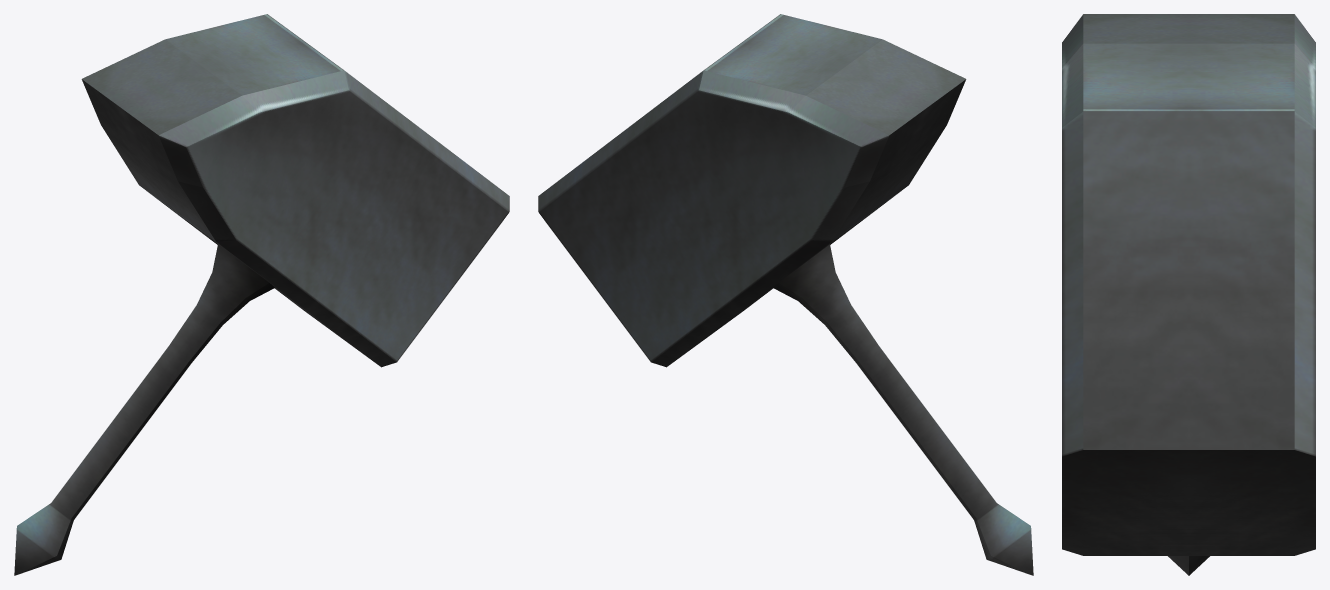
File: M29_big_hummer.fbx
The picture shows the model from 3 angles, left to right: view 1: azimuth 30°, elevation 25°; view 2: azimuth 150°, elevation 25°; view 3: azimuth 270°, elevation 25°; orthographic projection. The views are drawn at different scales.
Visible parts, largest first — view 1: Fire_hummer_model; view 2: Fire_hummer_model; view 3: Fire_hummer_model.
Boxes of the visible parts, bbox=[...] form: Fire_hummer_model: bbox=[14, 14, 509, 575]; Fire_hummer_model: bbox=[538, 14, 1033, 575]; Fire_hummer_model: bbox=[1062, 14, 1315, 575].
Bounding box in the file's own units: 24.75 × 23.95 × 8.68.
